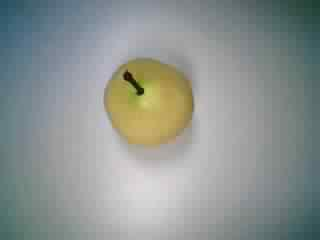pear: (91, 49, 200, 151)
